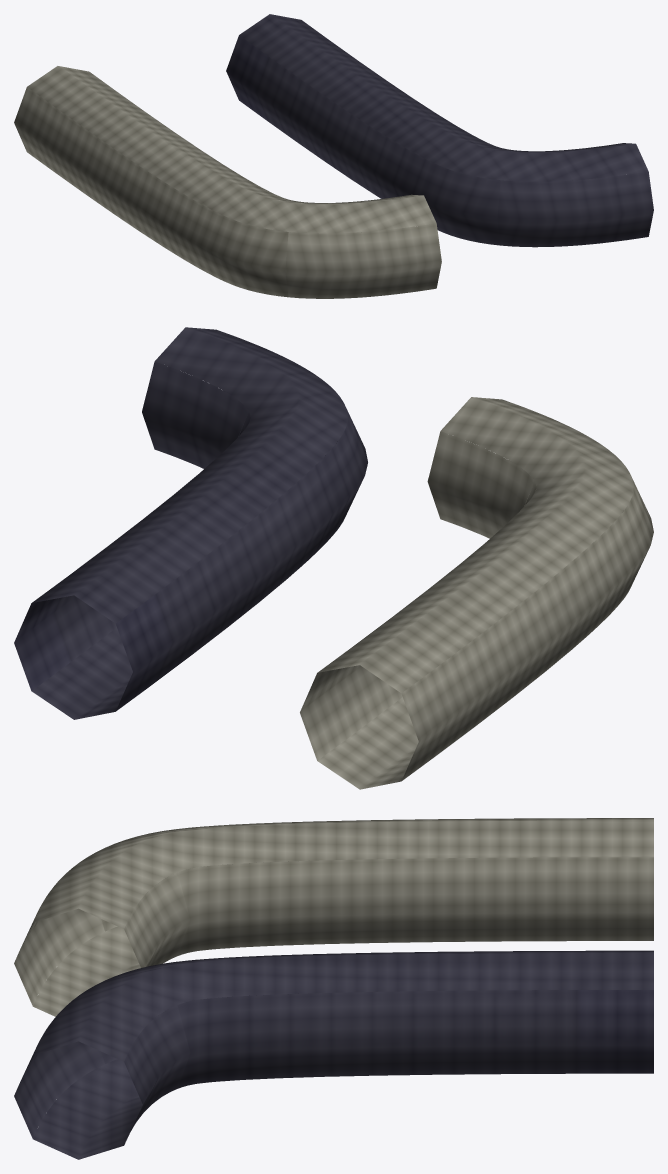
File: CL09_Socks.glb
3 renders of one model, top to bottom at view 1: azimuth 30°, elevation 25°; view 2: azimuth 150°, elevation 25°; view 3: azimuth 270°, elevation 25°, orthographic. The views are drawn at different scales.
Parts seen in each view (by area): view 1: CL09_Socks; view 2: CL09_Socks; view 3: CL09_Socks.
Boxes of the visible parts, box(x1,y1,x2,y2) form: CL09_Socks: box(14, 14, 653, 298); CL09_Socks: box(14, 327, 653, 789); CL09_Socks: box(14, 818, 653, 1159).
Size of the model in its own units: 0.1873 by 0.0409 by 0.2.
Materials: 2 (2 with a texture image).
